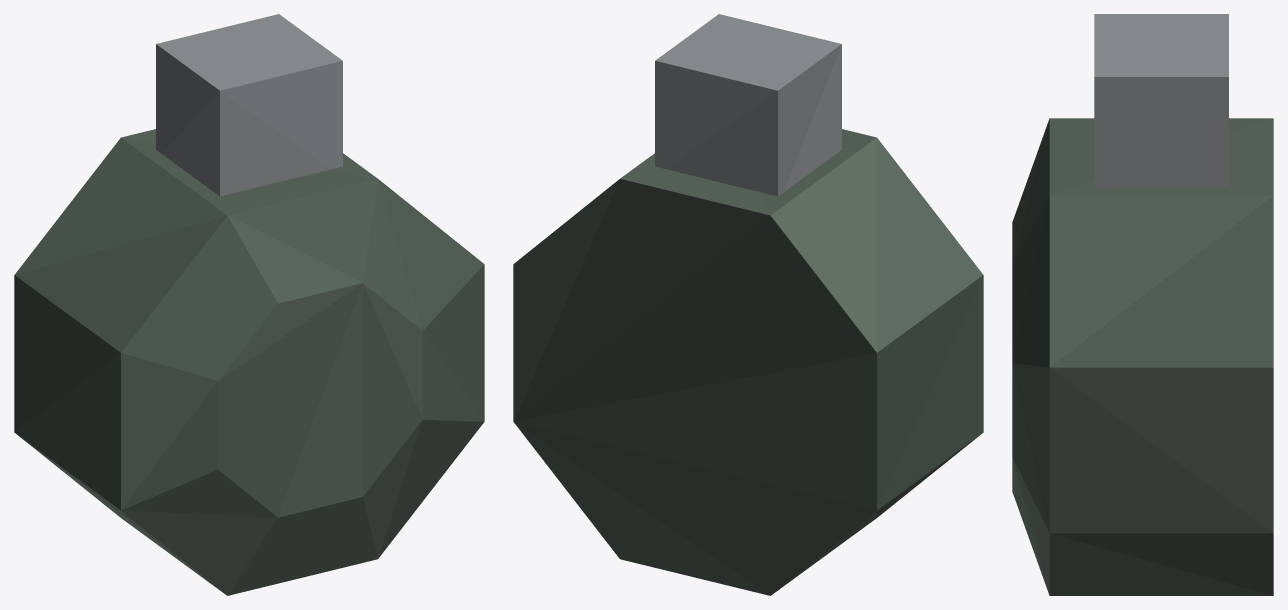
The model's file is cantimplora.fbx.
3 views of the same model, side by side, from view 1: azimuth 30°, elevation 25°; view 2: azimuth 150°, elevation 25°; view 3: azimuth 270°, elevation 25° (orthographic). The views are drawn at different scales.
Parts seen in each view (by area): view 1: cantimplora; view 2: cantimplora; view 3: cantimplora.
Boxes of the visible parts, x1,y1,x2,y2 form: cantimplora: (14, 14, 484, 595); cantimplora: (513, 14, 983, 595); cantimplora: (1012, 14, 1273, 595).
Size of the model in its own units: 0.0899 by 0.1149 by 0.0532.
Materials: 1 (1 with a texture image).
